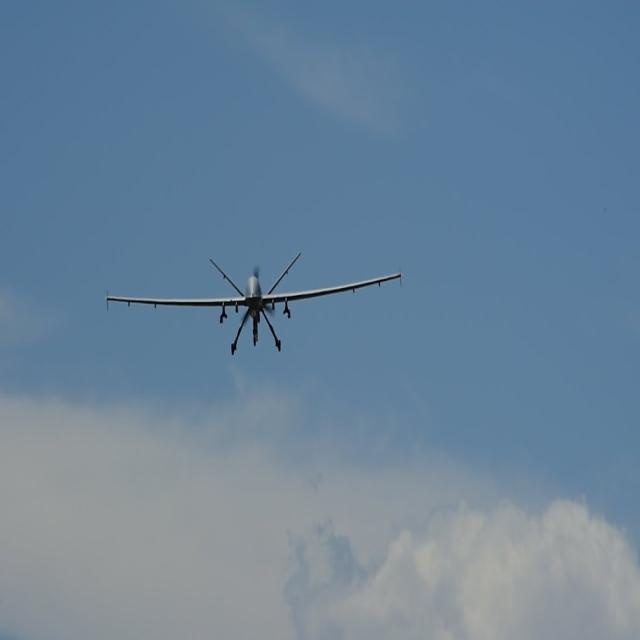MIL_Plane: (104, 252, 403, 356)
